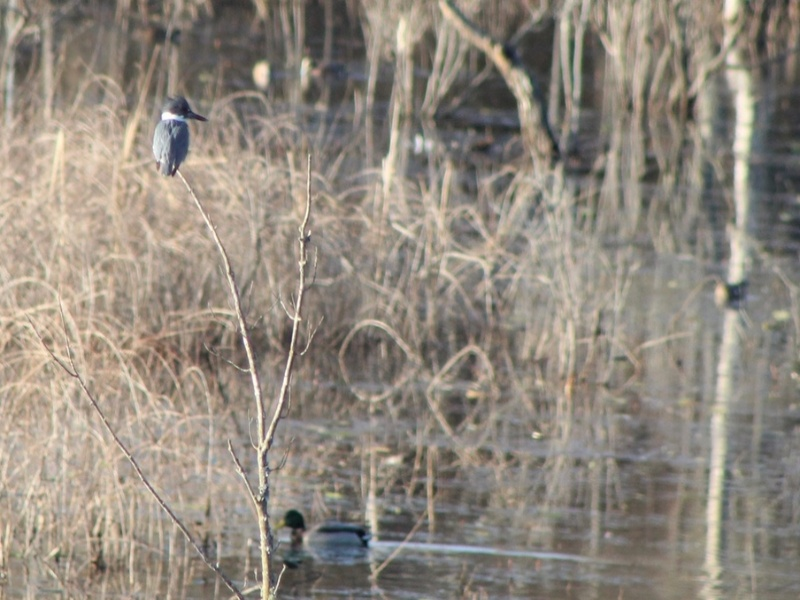kingfisher: (146, 91, 208, 186)
